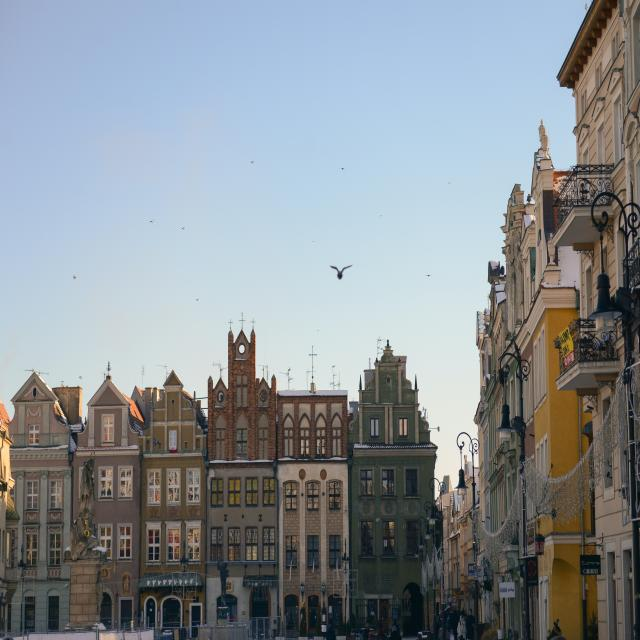Street Light: (590, 197, 640, 640), (495, 335, 530, 636), (456, 432, 480, 634), (429, 477, 446, 634), (424, 502, 437, 632), (417, 516, 431, 632)
